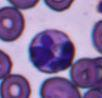N: (28, 28, 75, 73)
